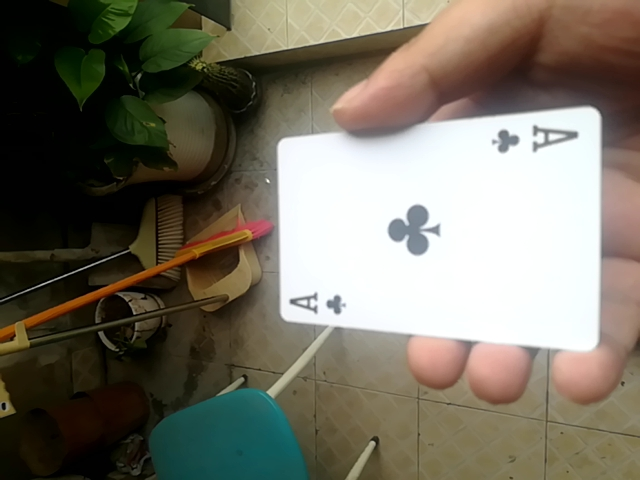mh a: (272, 100, 603, 355)
